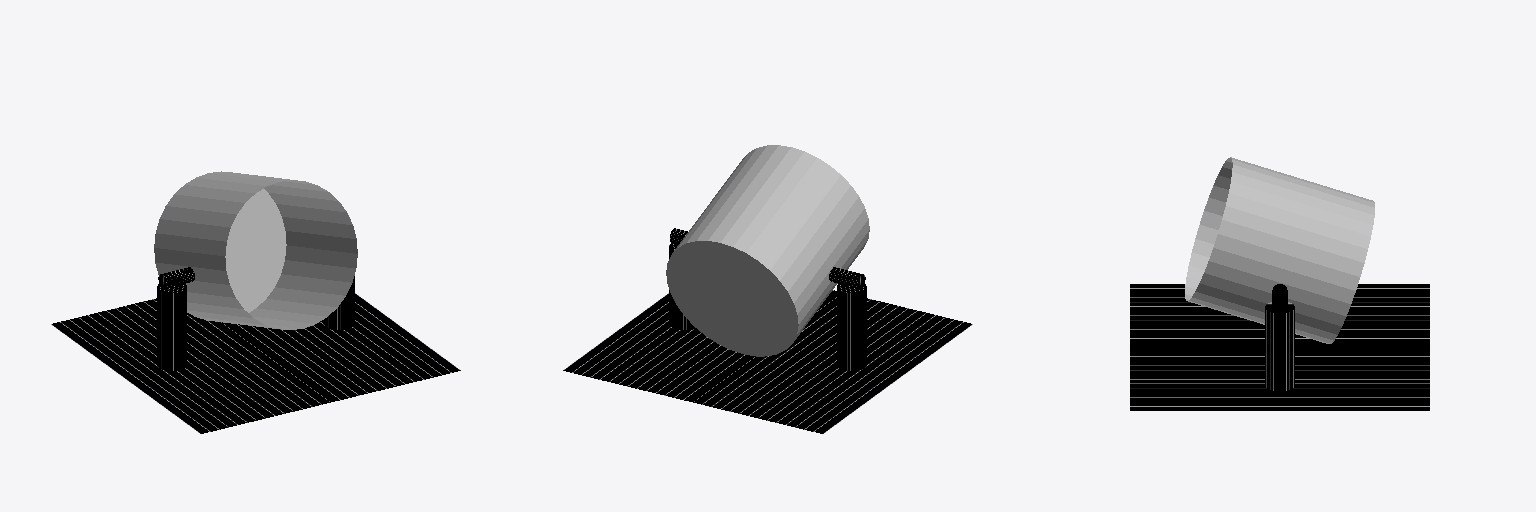
3 renders of one model, left to right at view 1: azimuth 30°, elevation 25°; view 2: azimuth 150°, elevation 25°; view 3: azimuth 270°, elevation 25°, orthographic.
Visible parts, largest first — view 1: Plano_Plano.001, Cilindro_Cilindro.002, Cilindro.001_Cilindro.003, Cilindro.002_Cilindro.004, Cilindro.004_Cilindro.006; view 2: Cilindro_Cilindro.002, Plano_Plano.001, Cilindro.001_Cilindro.003, Cilindro.002_Cilindro.004, Cilindro.004_Cilindro.006; view 3: Plano_Plano.001, Cilindro_Cilindro.002, Cilindro.002_Cilindro.004.
Boxes of the visible parts, box(x1,y1,x2,y2) form: Plano_Plano.001: box(51, 293, 460, 433); Cilindro_Cilindro.002: box(154, 171, 357, 329); Cilindro.001_Cilindro.003: box(157, 284, 186, 370); Cilindro.002_Cilindro.004: box(325, 276, 354, 329); Cilindro.004_Cilindro.006: box(158, 267, 194, 288); Cilindro_Cilindro.002: box(666, 145, 869, 356); Plano_Plano.001: box(563, 290, 972, 433); Cilindro.001_Cilindro.003: box(837, 284, 866, 370); Cilindro.002_Cilindro.004: box(669, 243, 694, 329); Cilindro.004_Cilindro.006: box(829, 267, 865, 288); Plano_Plano.001: box(1130, 284, 1429, 410); Cilindro_Cilindro.002: box(1185, 157, 1374, 343); Cilindro.002_Cilindro.004: box(1265, 302, 1294, 391).
Bounding box in the file's own units: 2 × 1.34 × 2.
Materials: 6 (2 with a texture image).